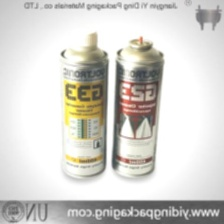aerosol_cans: (107, 33, 167, 181), (57, 26, 111, 182)
